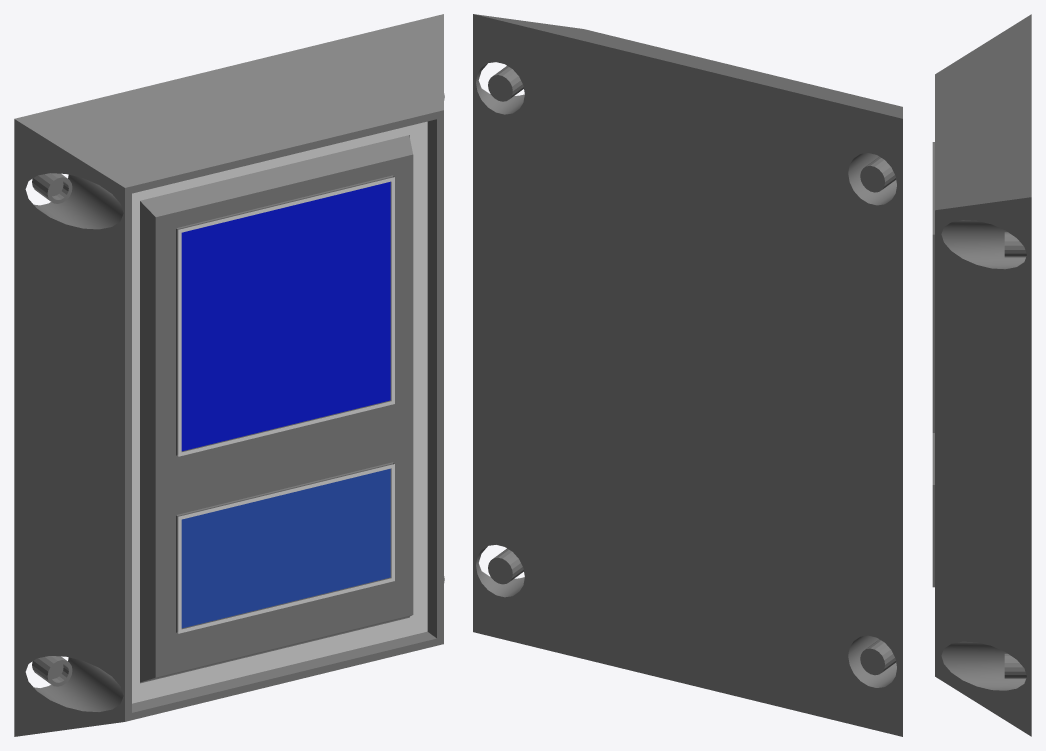
Rendered from Panel_Small.FBX.
3 renders of one model, left to right at view 1: azimuth 30°, elevation 25°; view 2: azimuth 150°, elevation 25°; view 3: azimuth 270°, elevation 25°, orthographic. The views are drawn at different scales.
Visible parts, largest first — view 1: Panel_Small, Panel_Small_Outline; view 2: Panel_Small; view 3: Panel_Small.
Boxes of the visible parts, box(x1,y1,x2,y2) form: Panel_Small: box(14, 14, 444, 736); Panel_Small_Outline: box(132, 121, 427, 703); Panel_Small: box(473, 14, 902, 736); Panel_Small: box(932, 14, 1031, 736).
Size of the model in its own units: 61.42 by 84.42 by 14.26.
